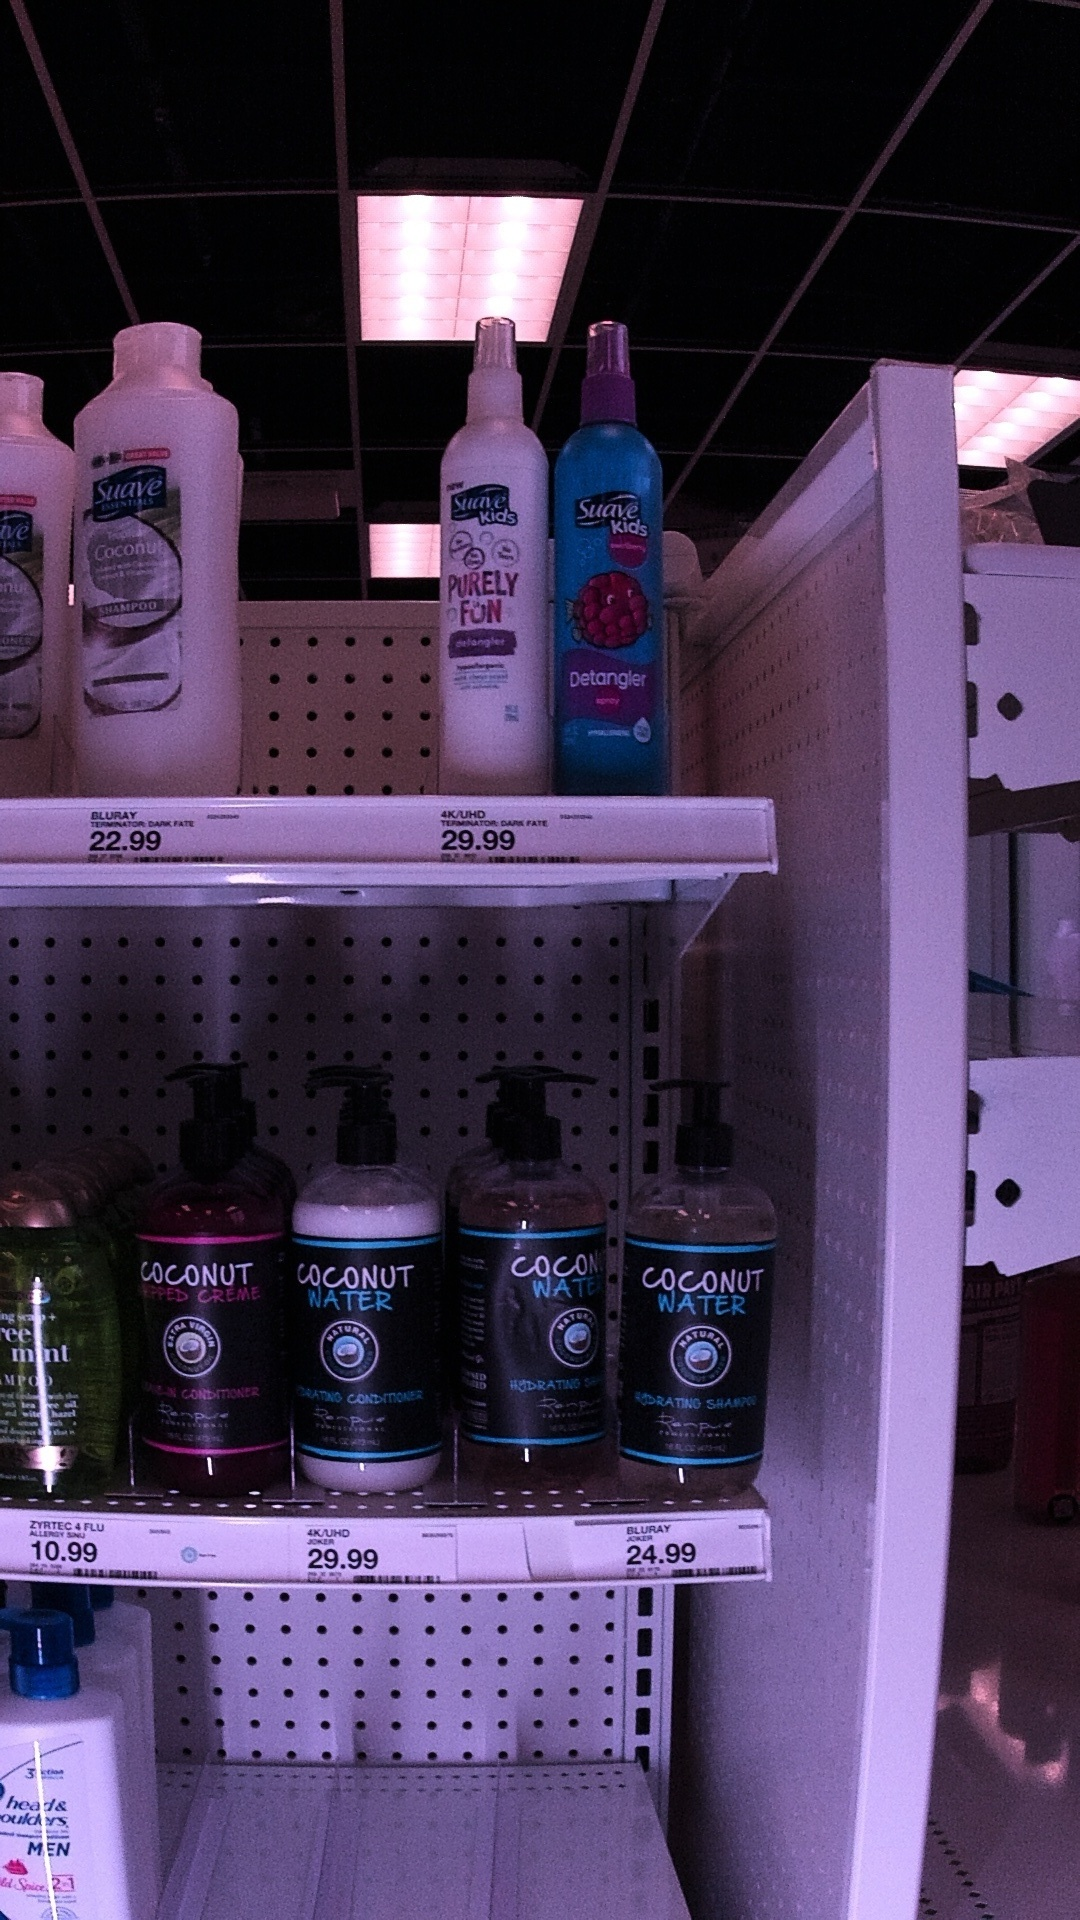ptag: (80, 785, 244, 880), (575, 1516, 775, 1589), (429, 802, 609, 880), (18, 1505, 164, 1593), (295, 1520, 462, 1593)
